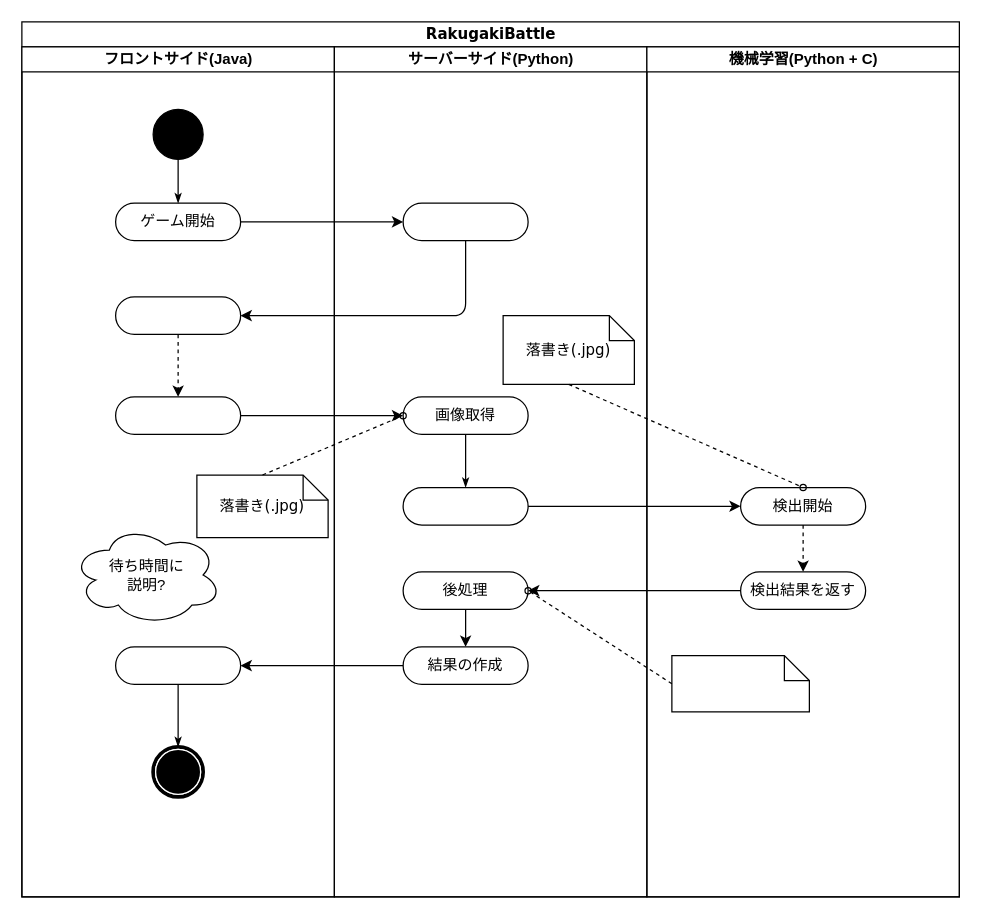
Image size: 981x919. Some labels were removed from this diagram. Here are the shapes that lost their labels. From the top down, the centre of each, then its label:
At (x=465, y=221): "お題決定".
At (x=177, y=315): "落書き開始".
At (x=177, y=415): "落書き終了".
At (x=465, y=505): "前処理".
At (x=177, y=665): "結果の表示".
At (x=740, y=683): "label,スコア".
